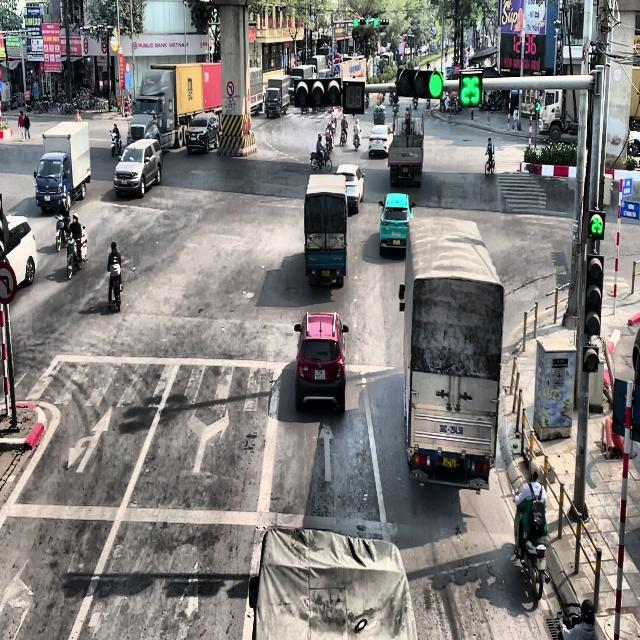lisence_plate: (438, 422, 464, 436), (442, 453, 457, 468), (313, 367, 326, 381), (320, 268, 331, 278), (400, 152, 411, 158), (392, 239, 401, 245), (375, 139, 380, 146), (403, 169, 408, 173)
